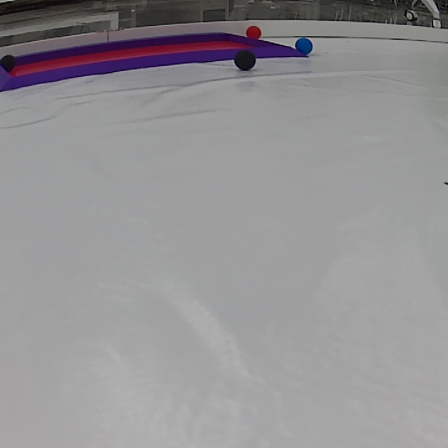black: (233, 50, 257, 72), (0, 50, 18, 71)
blue: (295, 37, 315, 54)
red: (244, 25, 265, 42)
red_aim: (0, 30, 322, 94)
